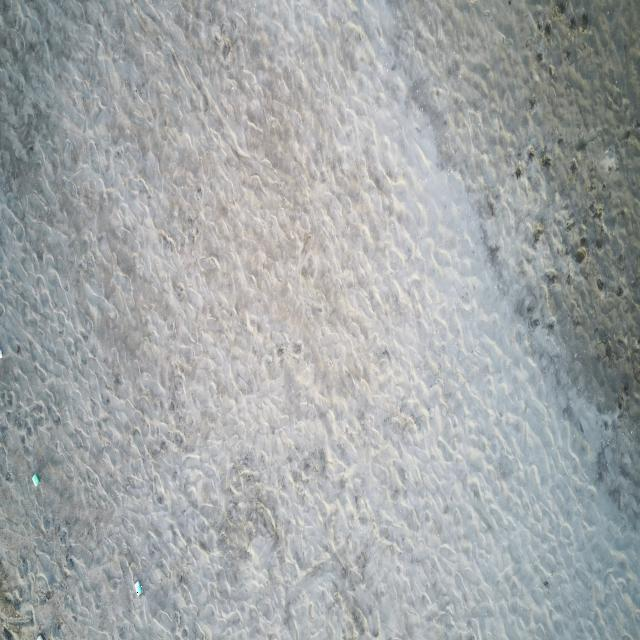Garbage: (32, 472, 40, 486), (135, 581, 140, 595), (35, 634, 44, 639), (0, 347, 2, 357)
